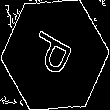P_SE: (27, 27, 83, 83)
